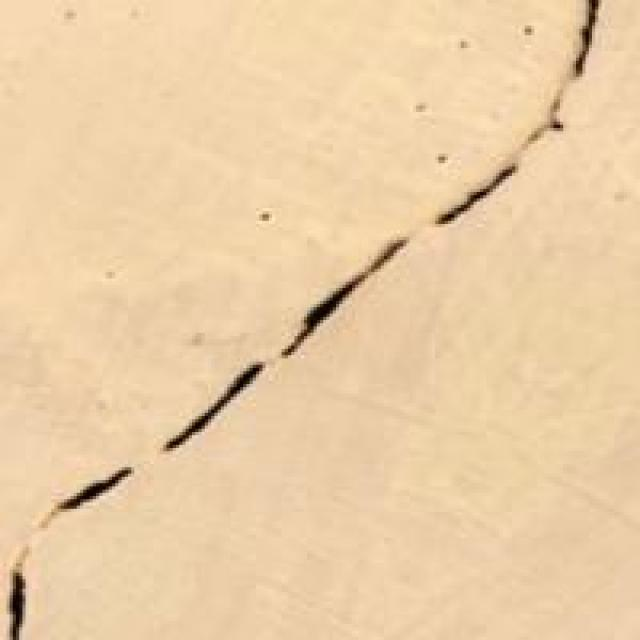crack: (6, 6, 612, 637)
